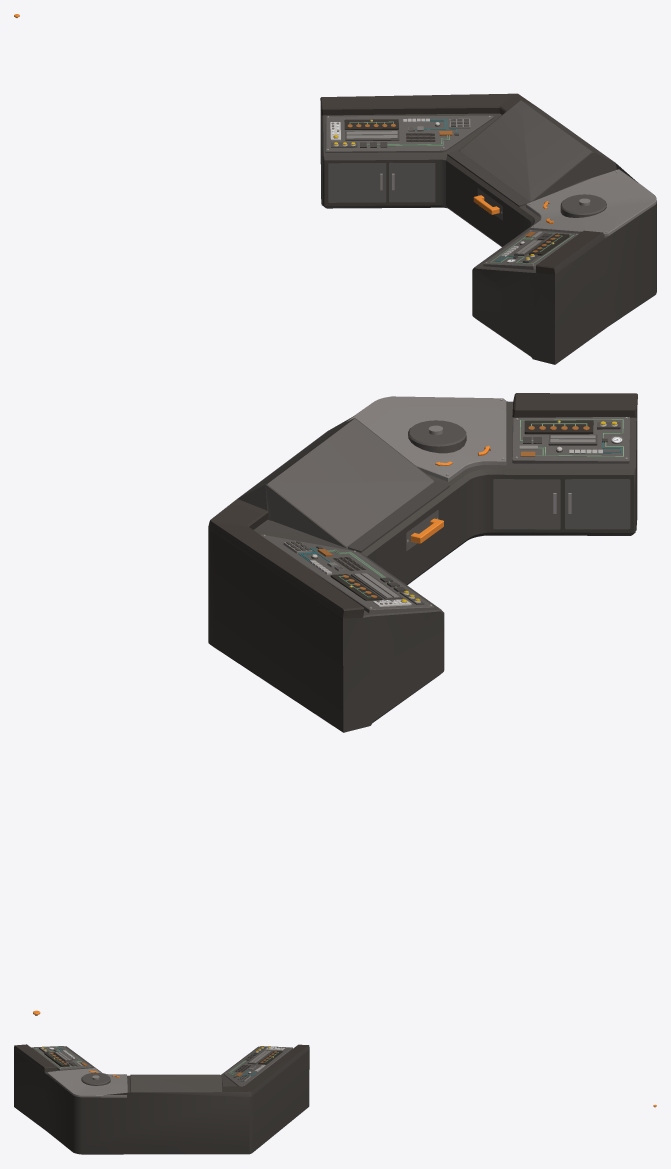
Rendered from DeskArea.fbx.
The picture shows the model from 3 angles, top to bottom: view 1: azimuth 30°, elevation 25°; view 2: azimuth 150°, elevation 25°; view 3: azimuth 270°, elevation 25°; orthographic projection. The views are drawn at different scales.
Parts seen in each view (by area): view 1: Desk_base, Panel_Left, PVT_Panel, Panel_Right; view 2: Desk_base, PVT_Panel, Panel_Right, Panel_Left; view 3: Desk_base, PVT_Panel, Panel_Left, Panel_Right.
Boxes of the visible parts, box(x1,y1,x2,y2) form: Desk_base: box(320, 93, 656, 364); Panel_Left: box(325, 115, 493, 152); PVT_Panel: box(526, 169, 656, 236); Panel_Right: box(483, 230, 578, 269); Desk_base: box(208, 393, 637, 732); PVT_Panel: box(347, 396, 506, 481); Panel_Right: box(512, 417, 629, 463); Panel_Left: box(260, 534, 434, 613); Desk_base: box(14, 1044, 309, 1154); PVT_Panel: box(47, 1068, 127, 1097); Panel_Left: box(224, 1046, 292, 1086); Panel_Right: box(31, 1046, 92, 1070).
Size of the model in its own units: 1.38 by 0.8695 by 6.19.
